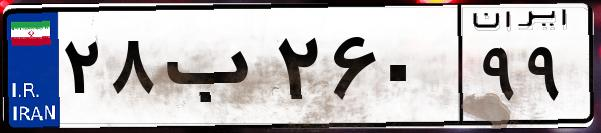0: (385, 28, 445, 110)
2: (270, 28, 330, 110), (57, 26, 110, 100)
6: (330, 28, 385, 110)
8: (110, 28, 158, 98)
9: (475, 38, 525, 113), (525, 38, 570, 115)
ب: (158, 20, 270, 120)
